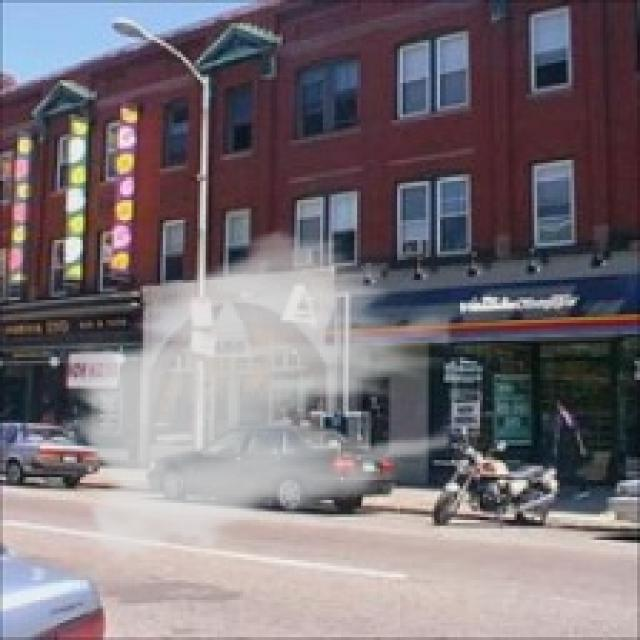smoke: (57, 220, 452, 574)
